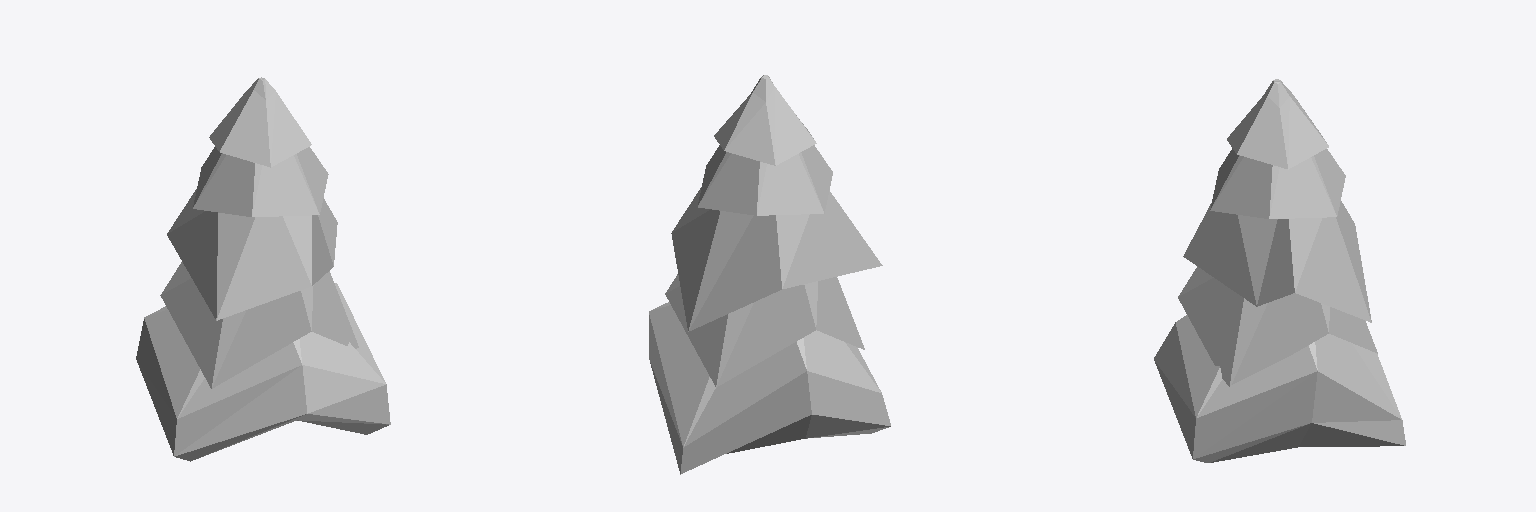
File: low_poly_tree.obj
The picture shows the model from 3 angles: view 1: azimuth 30°, elevation 25°; view 2: azimuth 150°, elevation 25°; view 3: azimuth 270°, elevation 25°; orthographic projection.
Visible parts, largest first — view 1: Circle.004; view 2: Circle.004; view 3: Circle.004.
Boxes of the visible parts, <box> form: Circle.004: <box>136,77,390,461</box>; Circle.004: <box>649,75,890,474</box>; Circle.004: <box>1154,79,1405,462</box>.
Size of the model in its own units: 2.19 by 3.64 by 2.34.